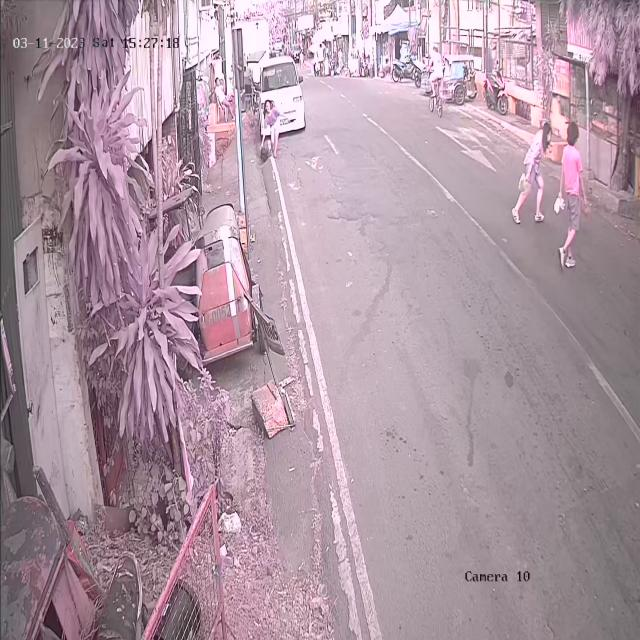garbage_dumping: (551, 188, 566, 214), (257, 145, 271, 161), (518, 174, 528, 194)
